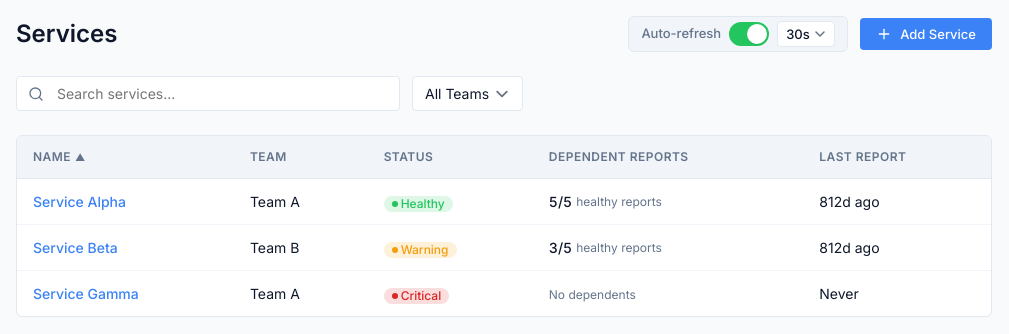
Test: ServicesList › filters services by search query
Check: the link "Service Alpha" is shown, box [33,193,126,210]
Type "alpha" into the field with placeholder "Search services..." at (208,94), box [16,76,400,111]
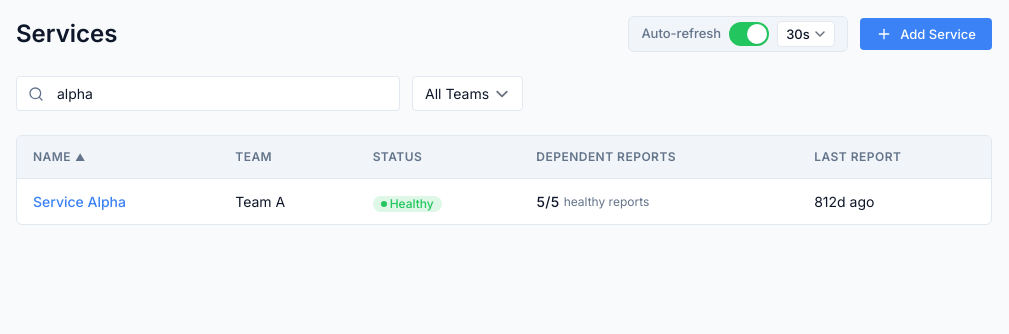
Check: the link "Service Alpha" is shown, box [33,193,126,210]
Check: the link "Service Beta" is gone
Check: the link "Service Gamma" is gone
